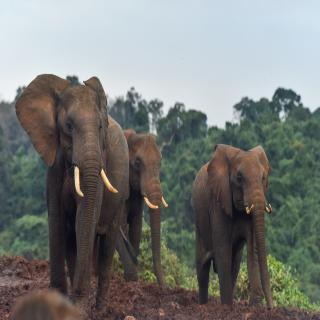Elephant: (13, 69, 132, 312), (188, 142, 282, 313)
